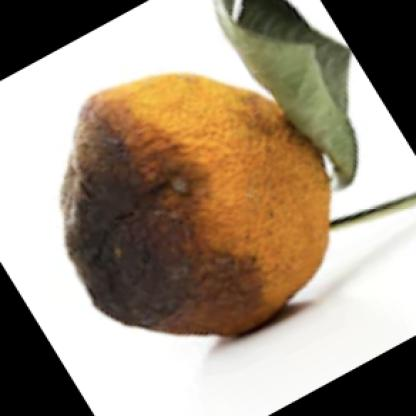rotten: (64, 72, 327, 339)
